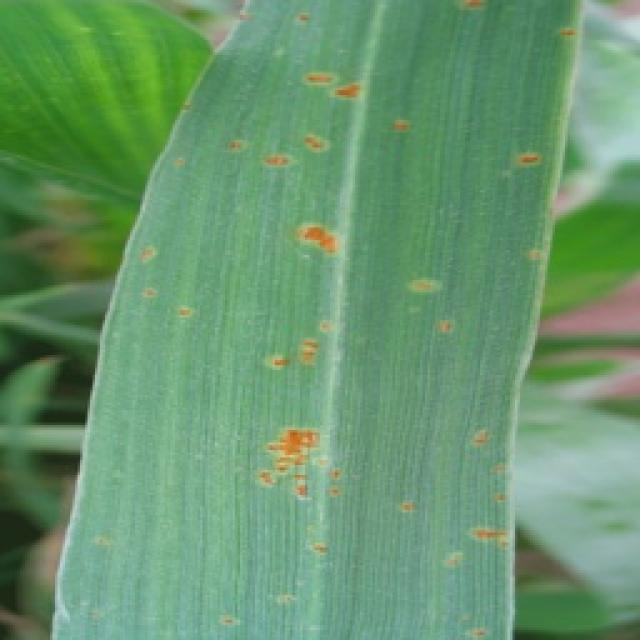Black Rust: (45, 0, 587, 638)
